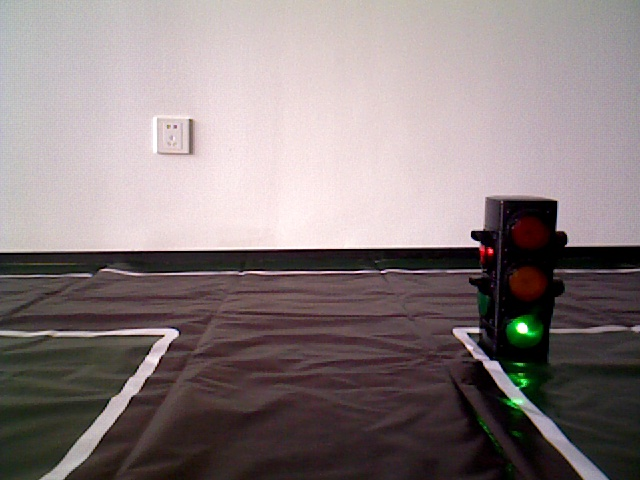green: (489, 201, 550, 353)
